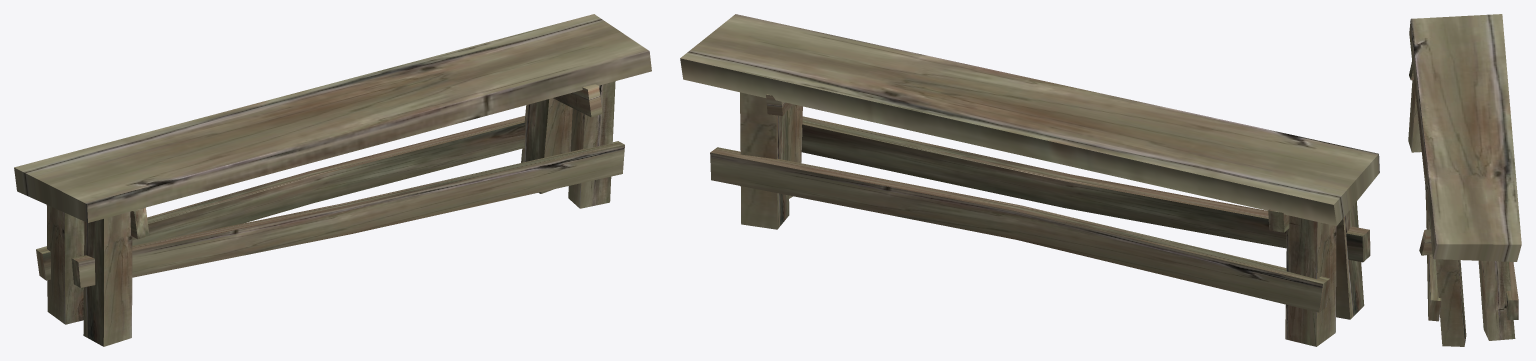
File: bench_shanty_2.fbx
3 views of the same model, side by side, from view 1: azimuth 30°, elevation 25°; view 2: azimuth 150°, elevation 25°; view 3: azimuth 270°, elevation 25° (orthographic). The views are drawn at different scales.
Visible parts, largest first — view 1: TablePlank5, polySurface400, polySurface39, polySurface397, polySurface396, polySurface399, polySurface398, polySurface65, polySurface388; view 2: TablePlank5, polySurface39, polySurface400, polySurface396, polySurface398, polySurface397, polySurface399; view 3: TablePlank5, polySurface398, polySurface399, polySurface400, polySurface397, polySurface39, polySurface65.
Boxes of the visible parts, x1,y1,x2,y2 form: TablePlank5: (14, 14, 651, 222); polySurface400: (71, 141, 624, 287); polySurface39: (36, 116, 525, 280); polySurface397: (83, 212, 132, 346); polySurface396: (46, 205, 84, 324); polySurface399: (568, 81, 615, 208); polySurface398: (521, 98, 572, 193); polySurface65: (553, 84, 602, 117); polySurface388: (130, 207, 149, 239); TablePlank5: (680, 14, 1379, 226); polySurface39: (710, 147, 1330, 312); polySurface400: (801, 116, 1370, 262); polySurface396: (1285, 215, 1336, 346); polySurface398: (740, 92, 789, 229); polySurface397: (1336, 201, 1364, 319); polySurface399: (788, 104, 802, 198); TablePlank5: (1409, 14, 1521, 261); polySurface398: (1478, 260, 1515, 340); polySurface399: (1435, 259, 1466, 346); polySurface400: (1425, 187, 1441, 321); polySurface397: (1408, 80, 1421, 152); polySurface39: (1506, 261, 1518, 319); polySurface65: (1419, 229, 1432, 255).
Bounding box in the file's own units: 652 × 152 × 135.
1 material, 1 textured.
